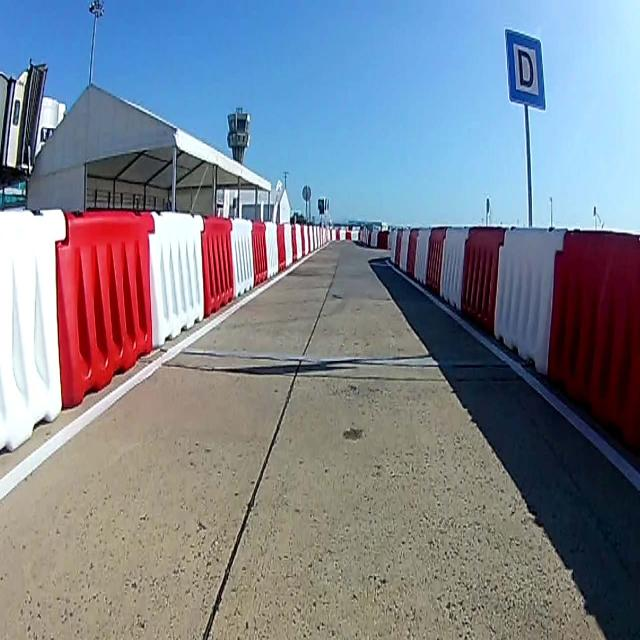durak: (506, 29, 544, 107)
